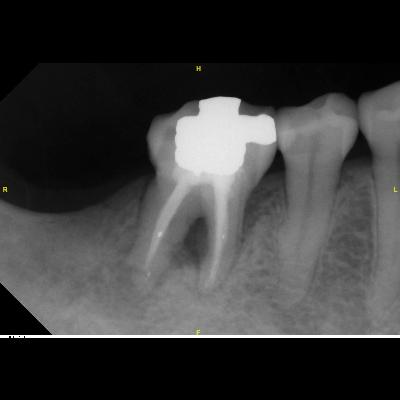tooth: (273, 90, 359, 312)
